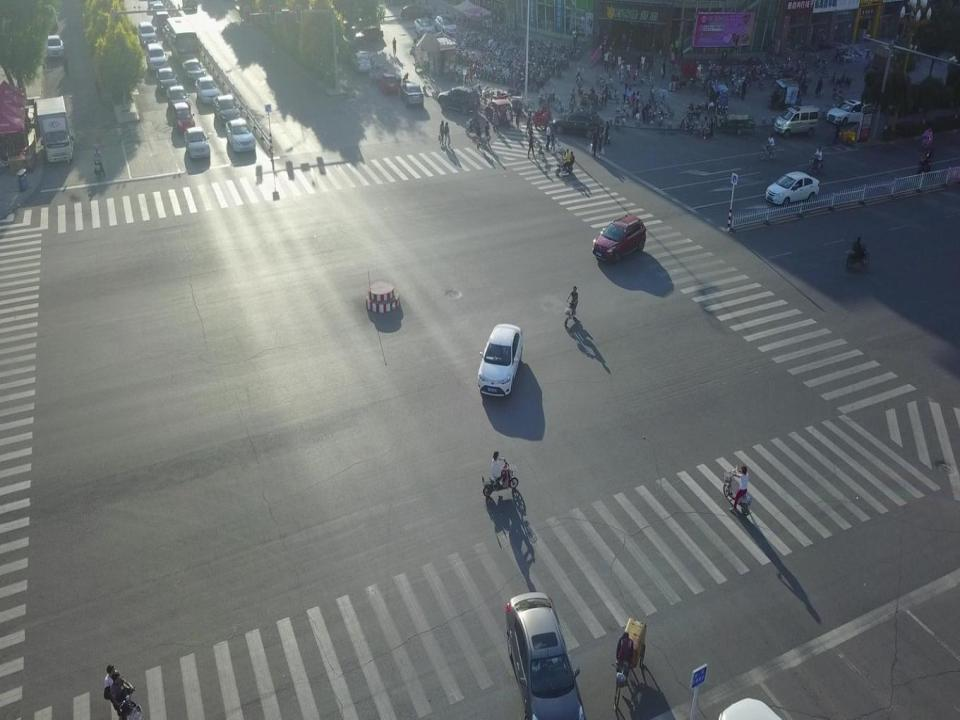car: (506, 592, 584, 720), (477, 324, 523, 397), (592, 213, 647, 265), (764, 170, 819, 202), (774, 104, 820, 136), (552, 111, 604, 139), (438, 86, 480, 116), (825, 100, 868, 125), (225, 118, 256, 152), (184, 126, 211, 158), (212, 94, 240, 123), (484, 99, 513, 124), (171, 102, 195, 132), (195, 76, 219, 104), (166, 86, 190, 110), (181, 56, 204, 81), (145, 43, 166, 70), (157, 66, 177, 93), (400, 83, 424, 105), (137, 22, 158, 44), (435, 13, 456, 35), (400, 3, 426, 20), (350, 52, 372, 72), (46, 35, 65, 57), (378, 74, 398, 94), (414, 18, 434, 35), (154, 10, 170, 30), (151, 2, 164, 14)
truck: (35, 97, 74, 160), (165, 16, 201, 60)
